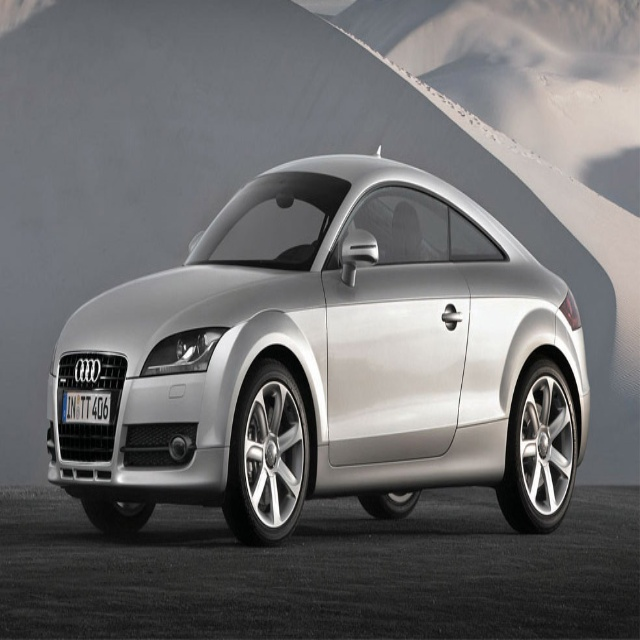Car: (45, 151, 591, 547)
